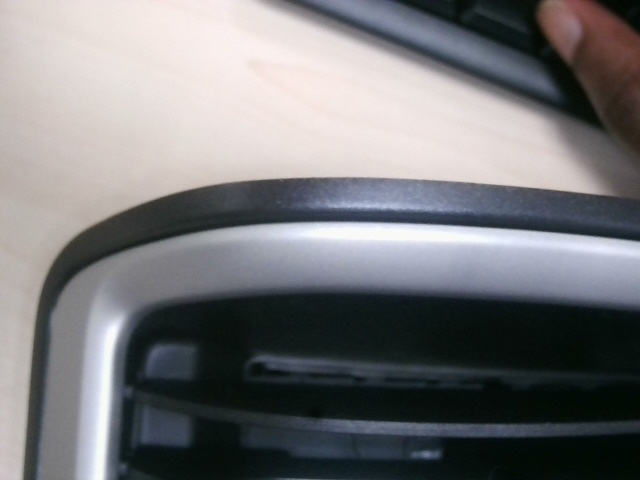NG: (422, 175, 479, 206)
